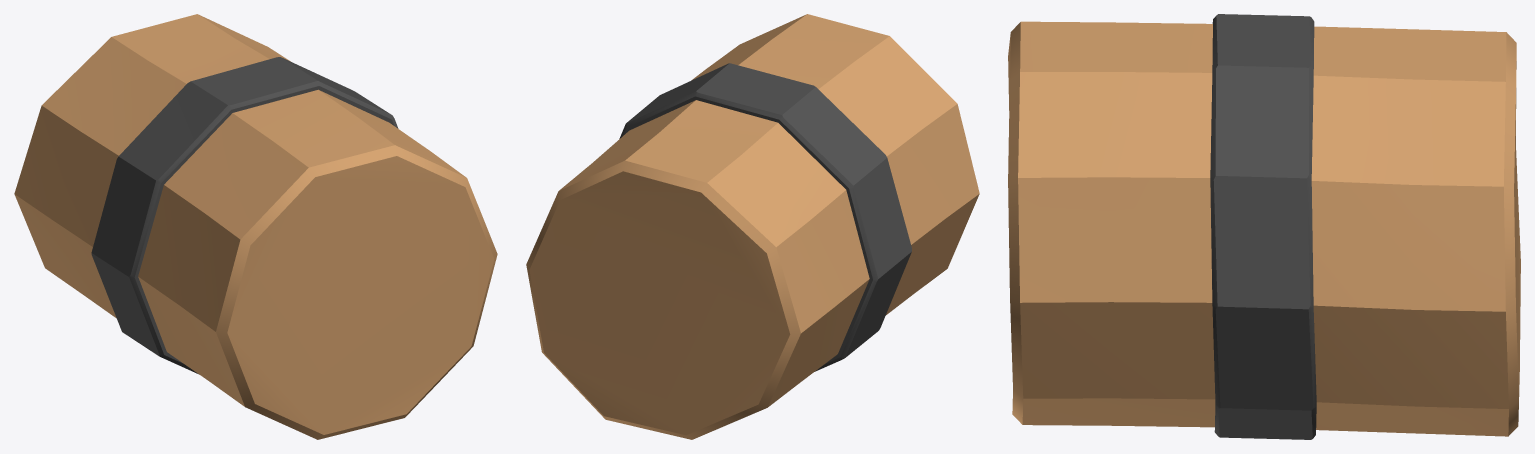
Rendered from 012 Dry_Grass_roll.FBX.
3 views of the same model, side by side, from view 1: azimuth 30°, elevation 25°; view 2: azimuth 150°, elevation 25°; view 3: azimuth 270°, elevation 25° (orthographic). The views are drawn at different scales.
Parts seen in each view (by area): view 1: Cylinder463; view 2: Cylinder463; view 3: Cylinder463.
Boxes of the visible parts, x1,y1,x2,y2 form: Cylinder463: (14, 14, 497, 439); Cylinder463: (526, 14, 979, 439); Cylinder463: (1008, 14, 1520, 439).
Size of the model in its own units: 84.9 by 80.42 by 101.
